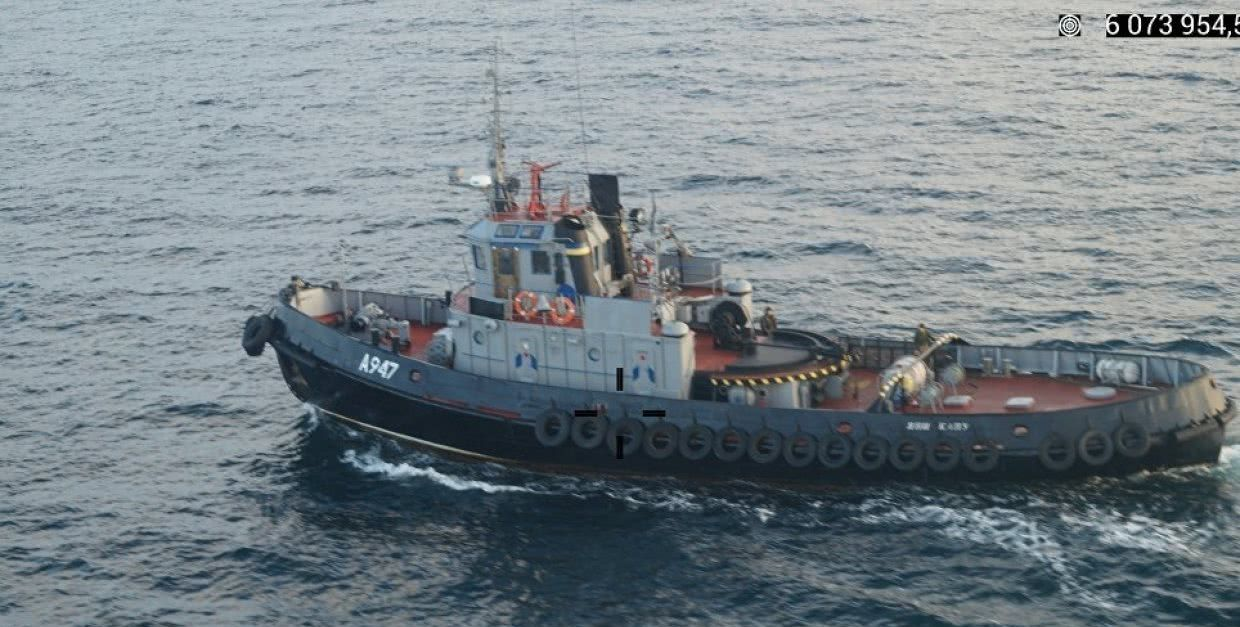otherboat: (250, 138, 1232, 464)
